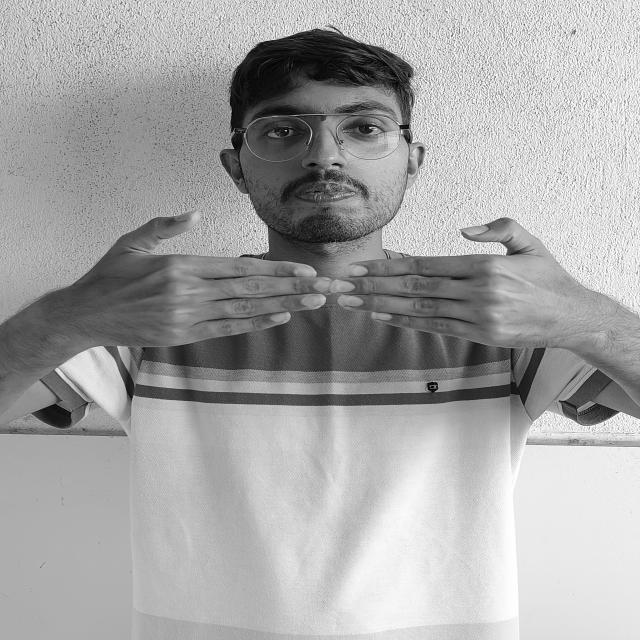Night: (17, 206, 636, 391)
